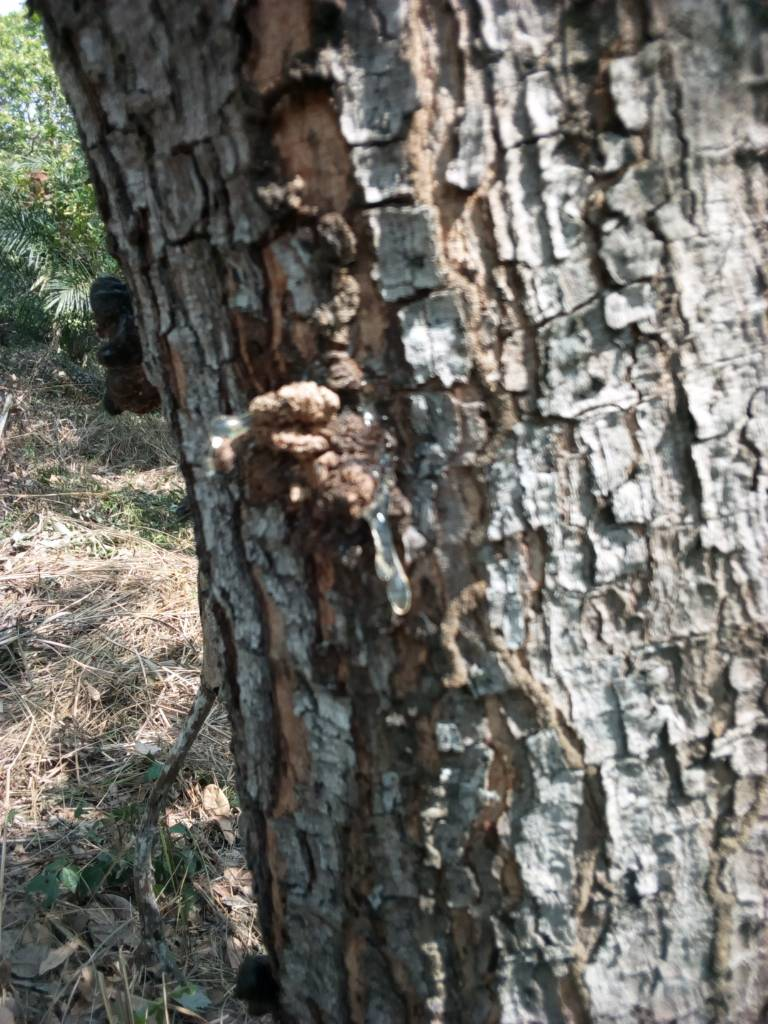Termites: (213, 10, 685, 1003)
